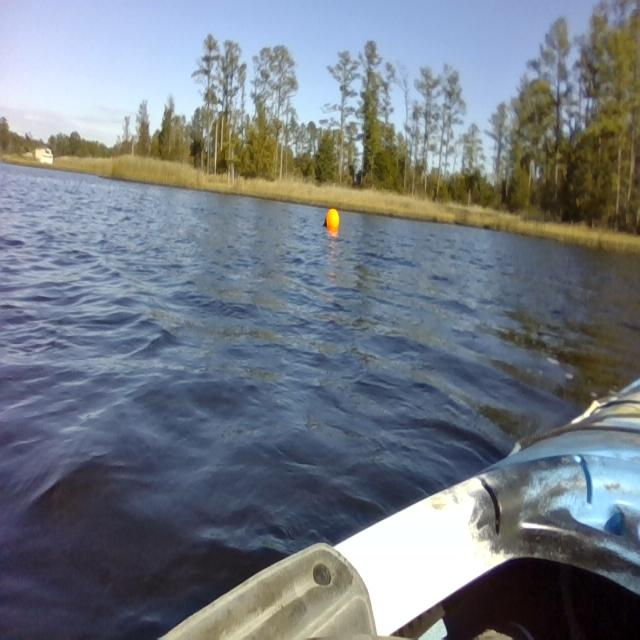Buoy: (323, 204, 342, 234)
